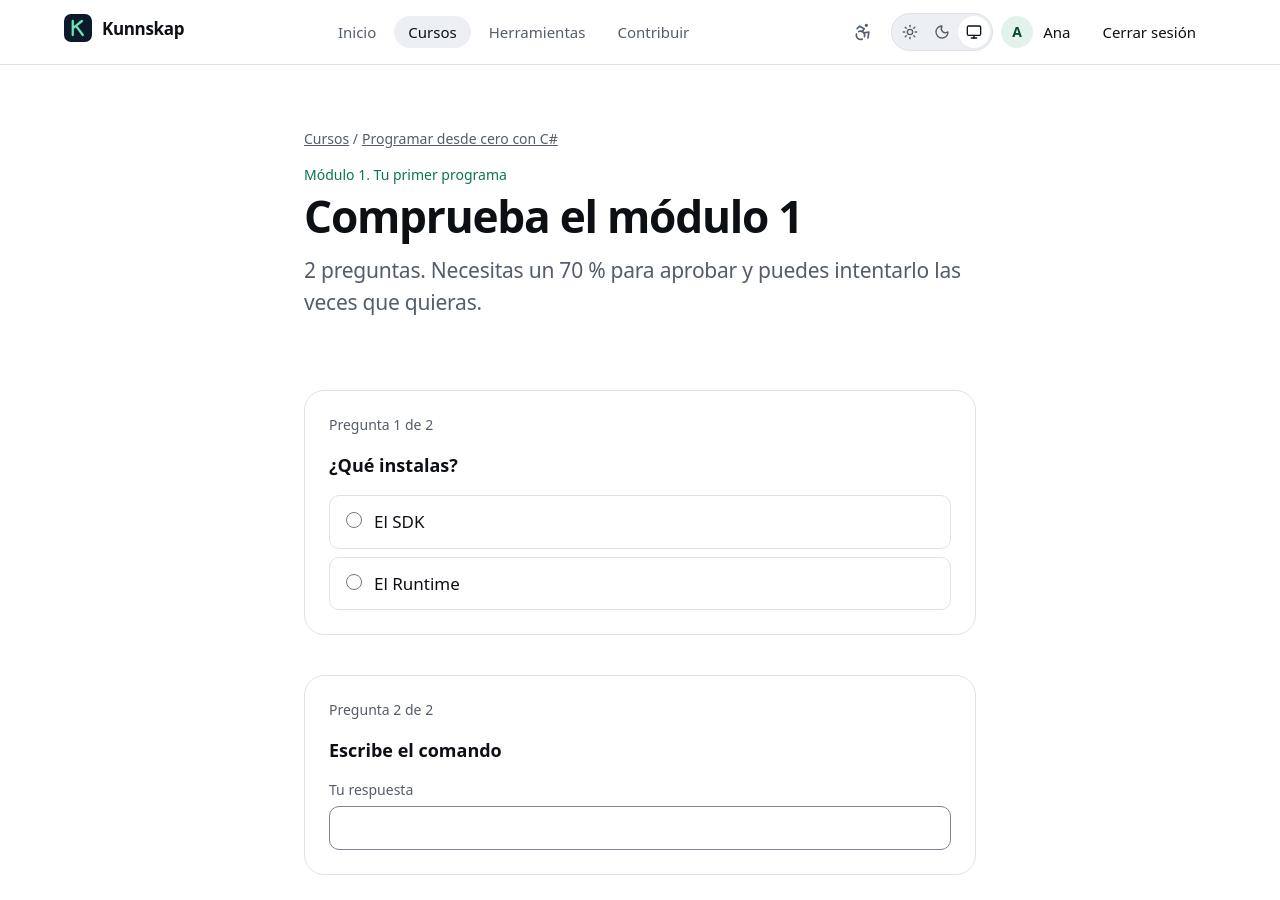
Test: cuestionario › avisa de las preguntas sin responder antes de enviar
The image size is (1280, 900).
What coordinates should you click on to do the following:
click the radio button labelled "El SDK"
I would click on:
 (354, 520)
Its box is [346,512,362,528].
(page scrolled)
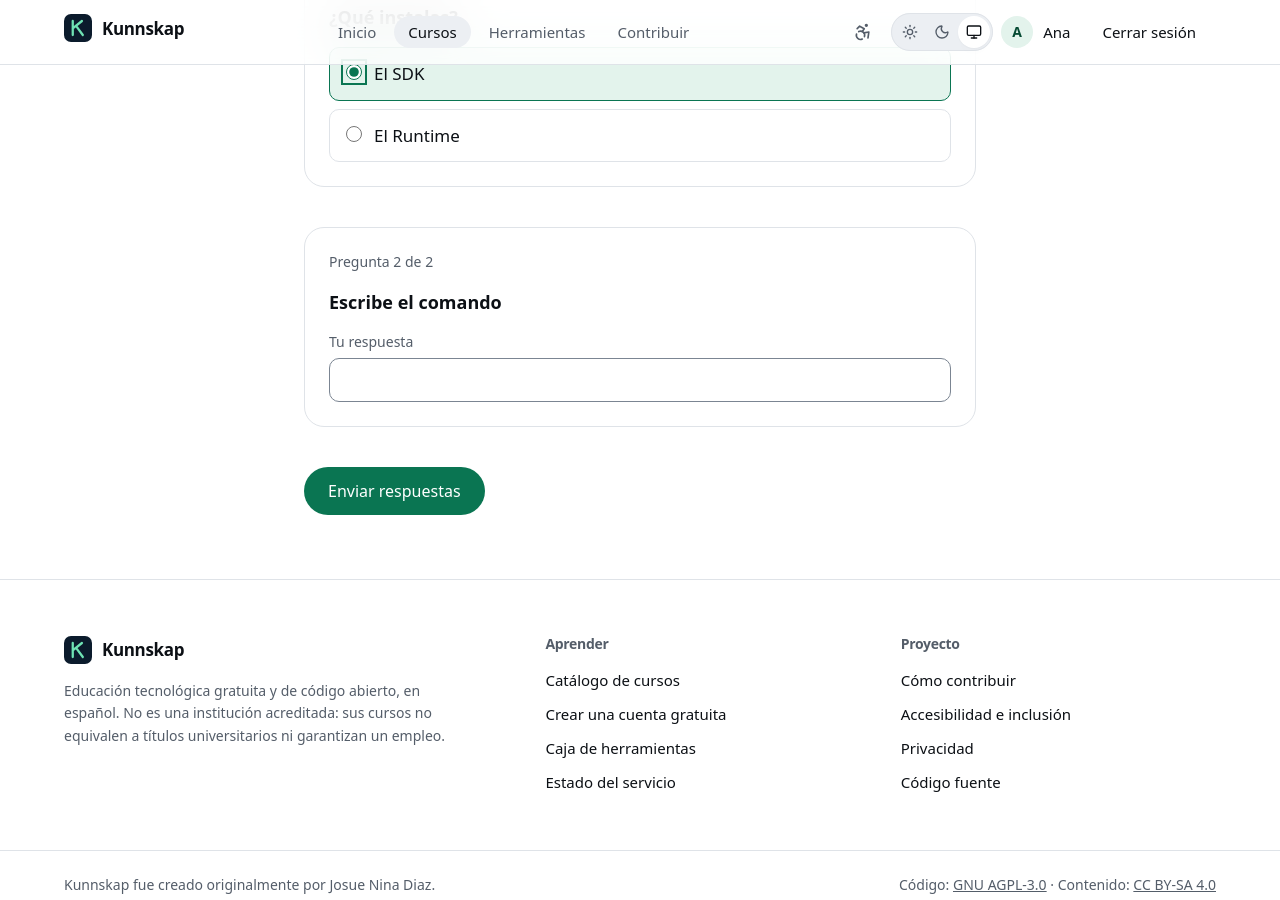
What coordinates should you click on to do the following:
click the button "Enviar respuestas"
I would click on:
 (394, 491)
Its box is [304,467,485,515].
(page scrolled)
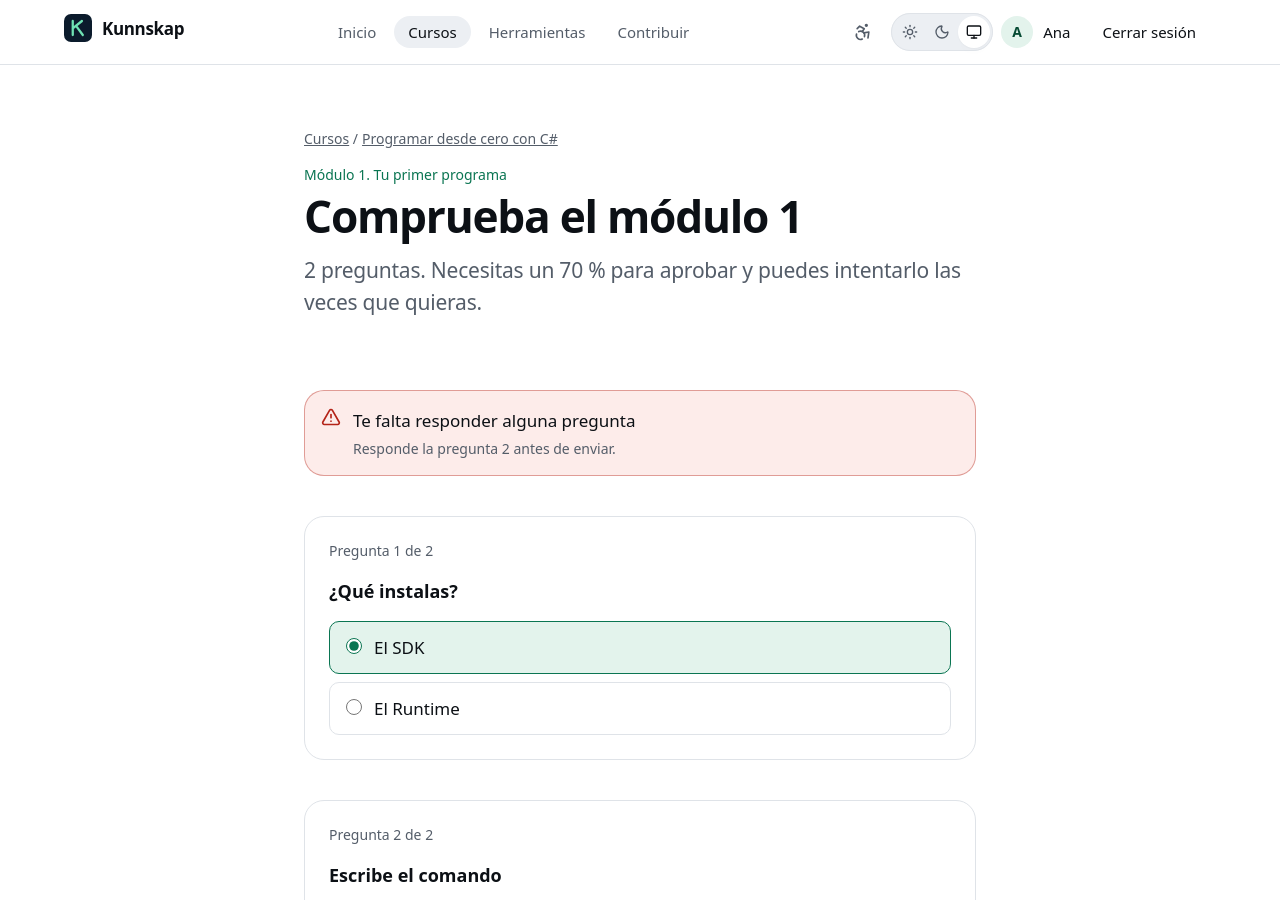
Now the message shows "Responde la pregunta 2", box [304,390,976,476]
